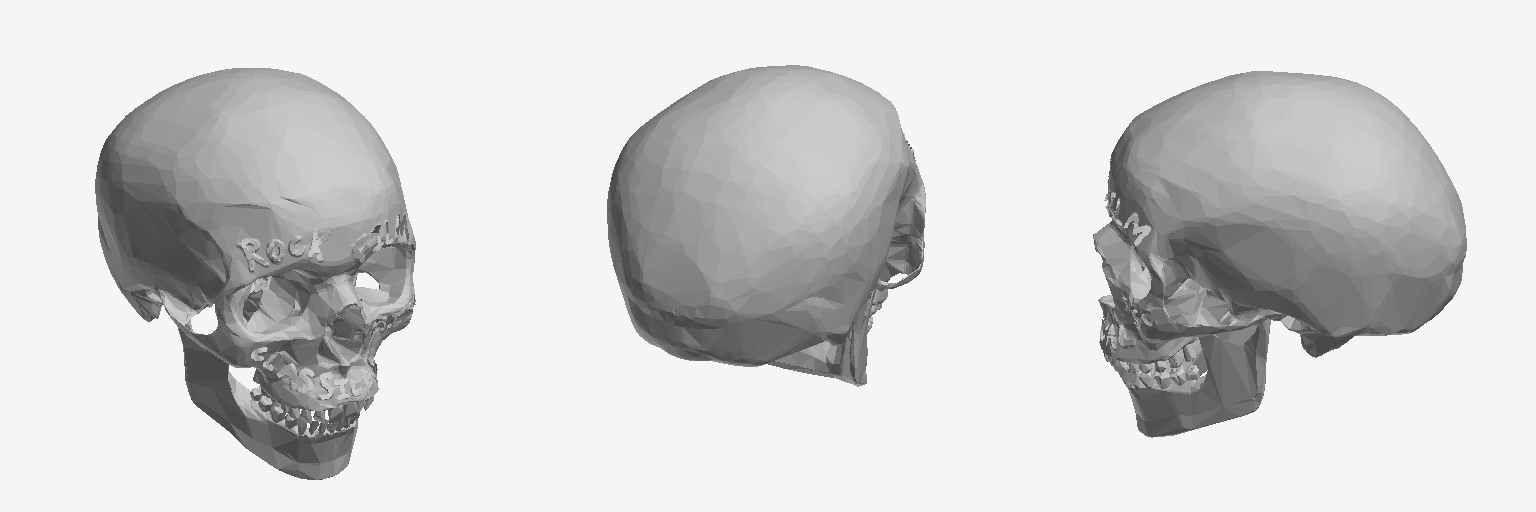
File: fullSkull.obj
3 renders of one model, left to right at view 1: azimuth 30°, elevation 25°; view 2: azimuth 150°, elevation 25°; view 3: azimuth 270°, elevation 25°, orthographic.
Parts seen in each view (by area): view 1: fullSkull_Skull.005; view 2: fullSkull_Skull.005; view 3: fullSkull_Skull.005.
Boxes of the visible parts, <box> form: fullSkull_Skull.005: <box>95,68,415,479</box>; fullSkull_Skull.005: <box>607,65,925,386</box>; fullSkull_Skull.005: <box>1093,71,1466,437</box>.
Bounding box in the file's own units: 26.5 × 35.73 × 35.32.